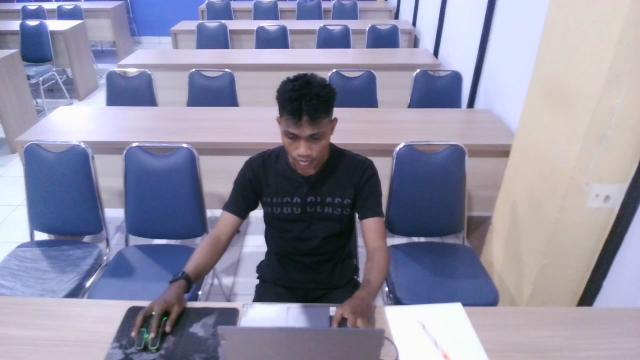Normal_Focus: (174, 39, 426, 360)
